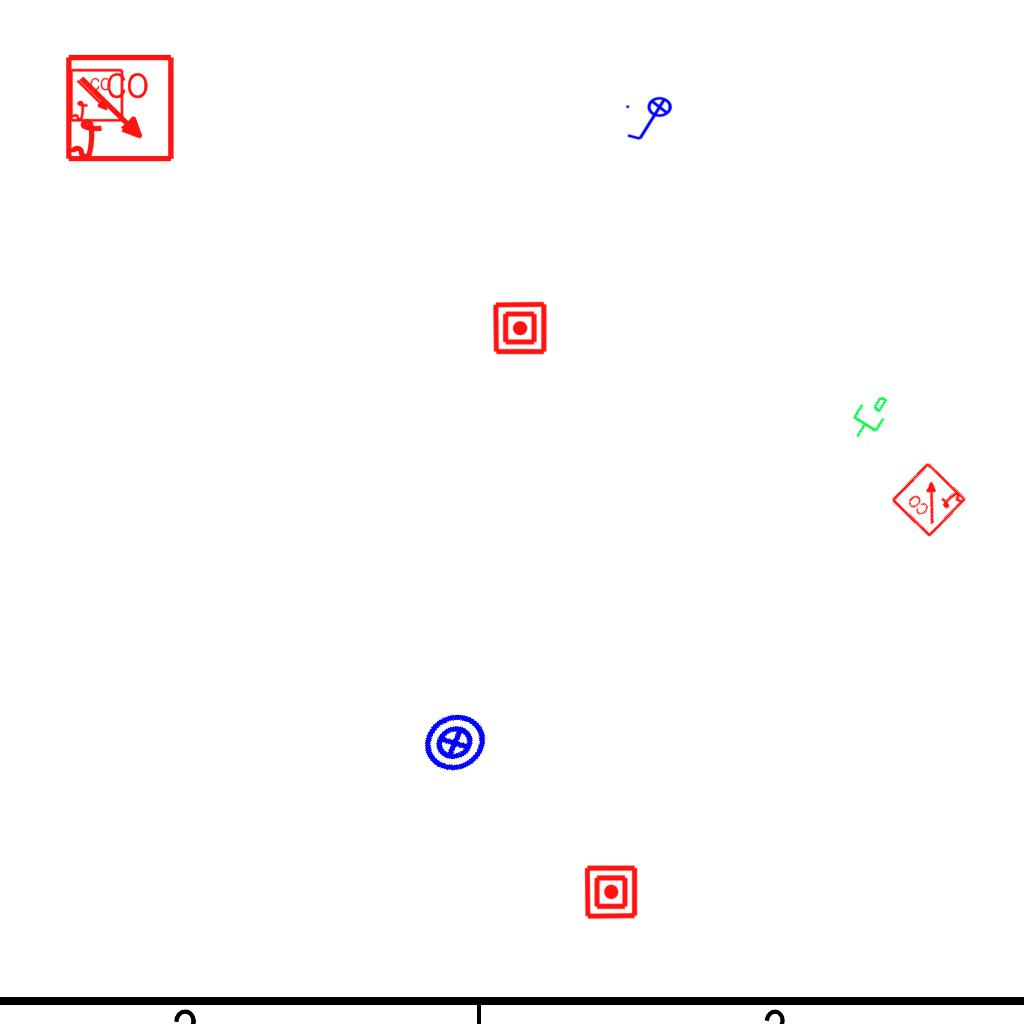Ausschalter_beleuchtet: (623, 96, 679, 144)
Datenanschluss_einfach: (841, 385, 897, 447)
NAM-Nichtautomatischer_Melder: (583, 864, 639, 920), (492, 300, 548, 356)
ROA_Rauchmelder_optisch_mit_Signalgeber_(Sockelsirene): (64, 53, 177, 166), (889, 459, 969, 539), (69, 68, 125, 124)
Taster_beleuchtet: (411, 699, 499, 787)
